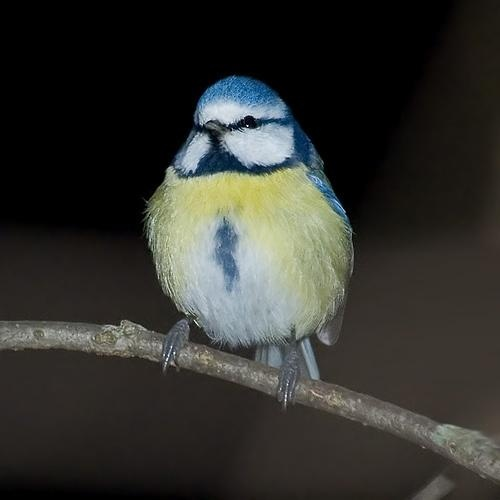bird: (143, 75, 357, 409)
